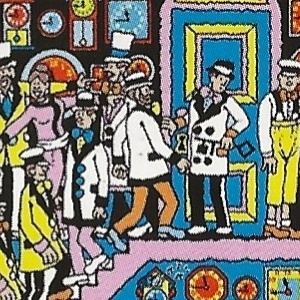Wizard Whitebeard: (128, 124, 172, 176)
